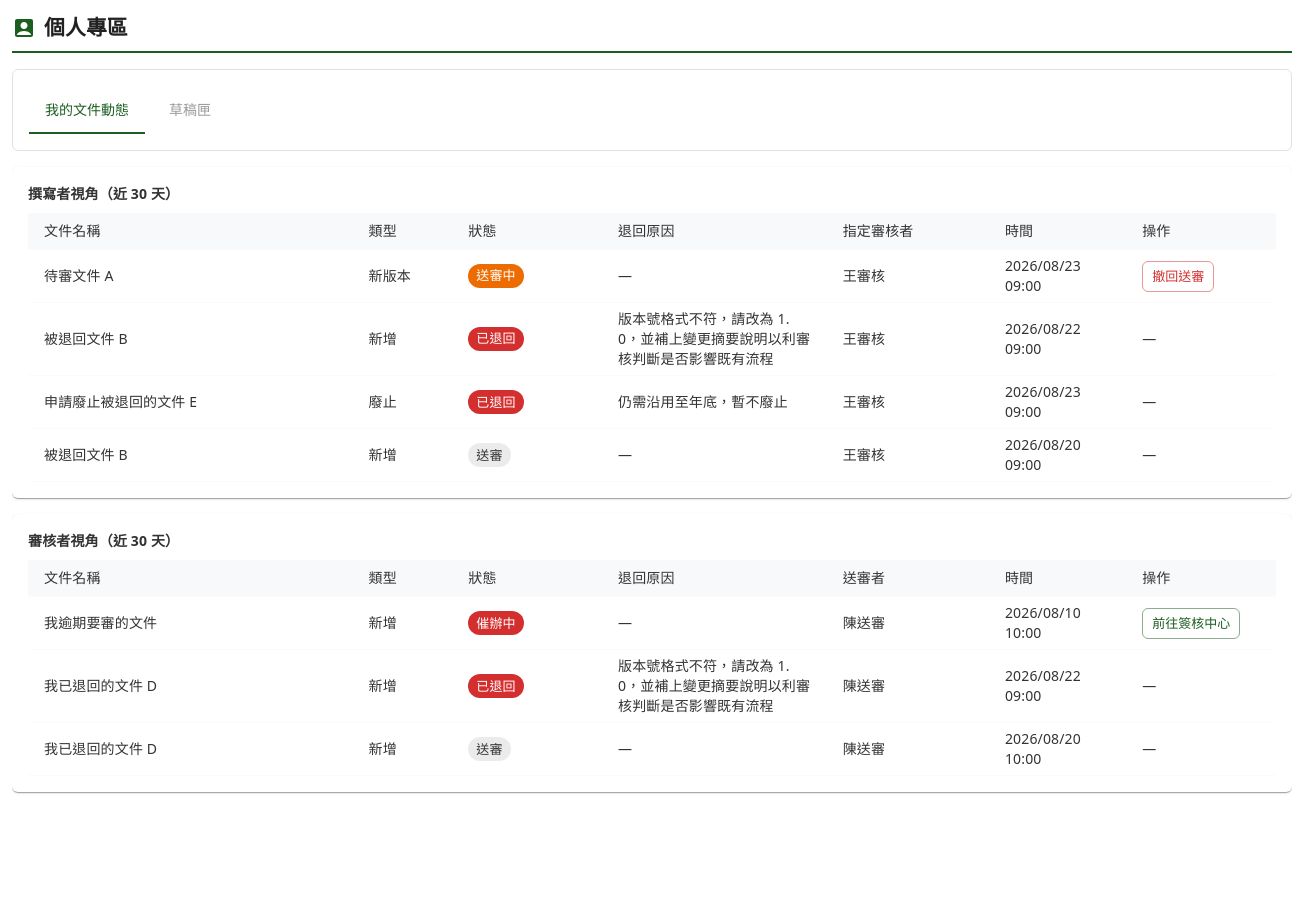
Test: DmPersonalPage 個人專區（DM04） › 草稿匣：三類標記 + 繼續編輯 / 刪除；已廢止孤兒草稿仍顯示但續編灰化
The image size is (1292, 912).
Click the tab "草稿匣".
click(190, 110)  # box x1=145 y1=86 x2=235 y2=134
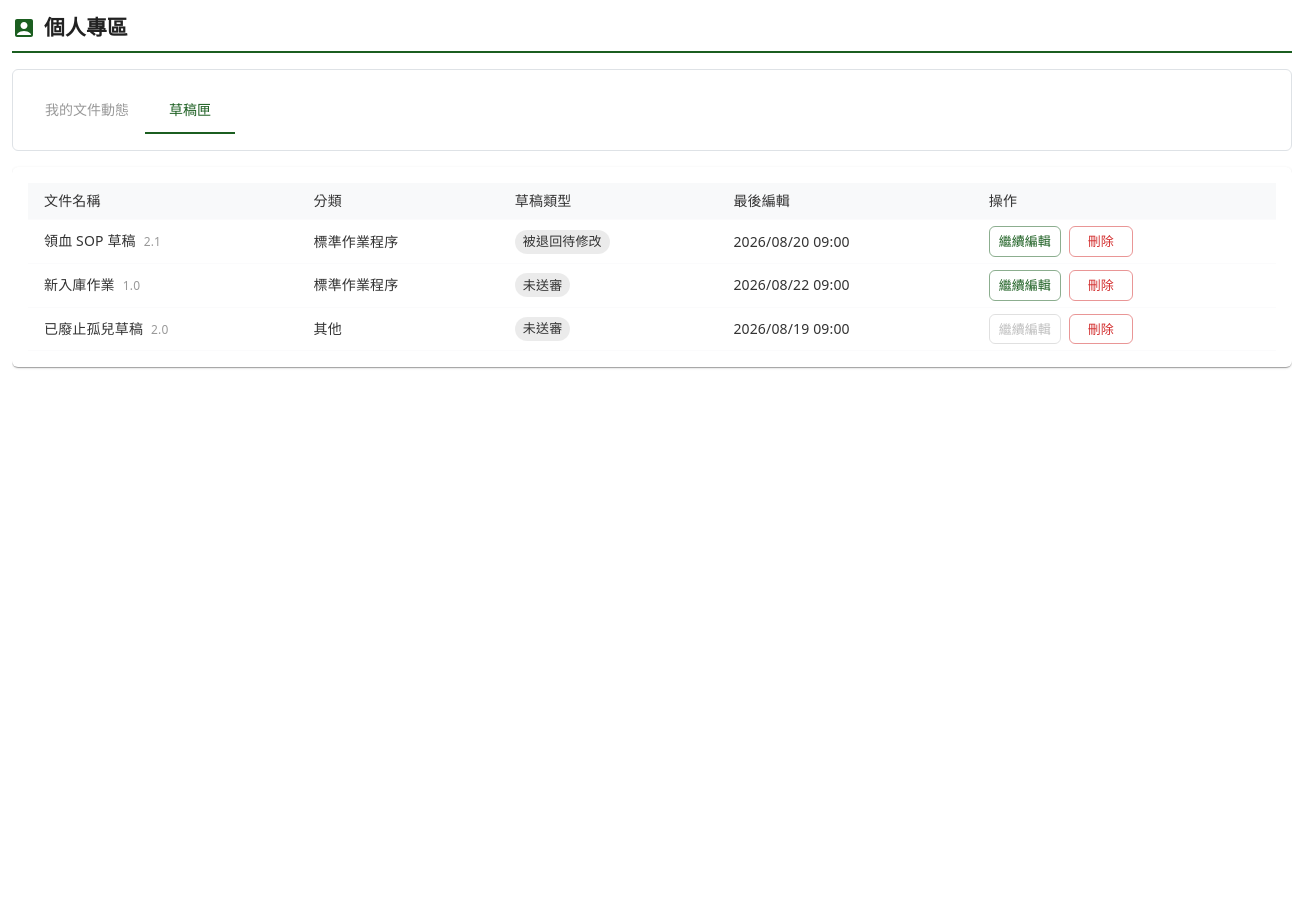
Now the text "領血 SOP 草稿" is shown, box x1=44 y1=231 x2=136 y2=250
Now the text "被退回待修改" is shown, box x1=523 y1=232 x2=602 y2=250
Now the text "已廢止孤兒草稿" is shown, box x1=44 y1=319 x2=143 y2=338
